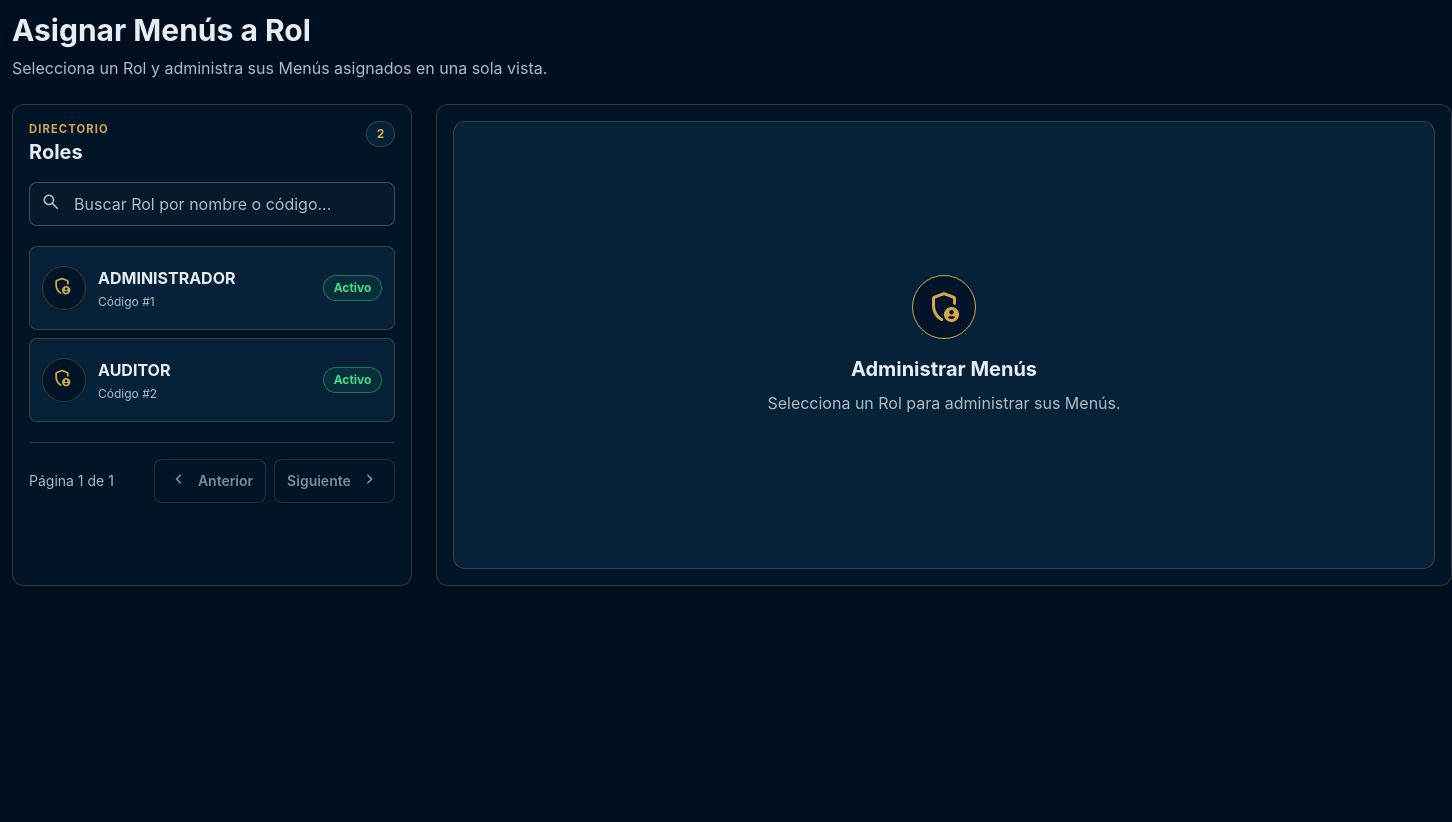
AsignarMenusListComponent › filters available Menús by code and uses the visual icon fallback
This screenshot has width=1452, height=822.
Click the button "ADMINISTRADOR Código #1 Activo" at (212, 288), box x1=29 y1=246 x2=395 y2=330
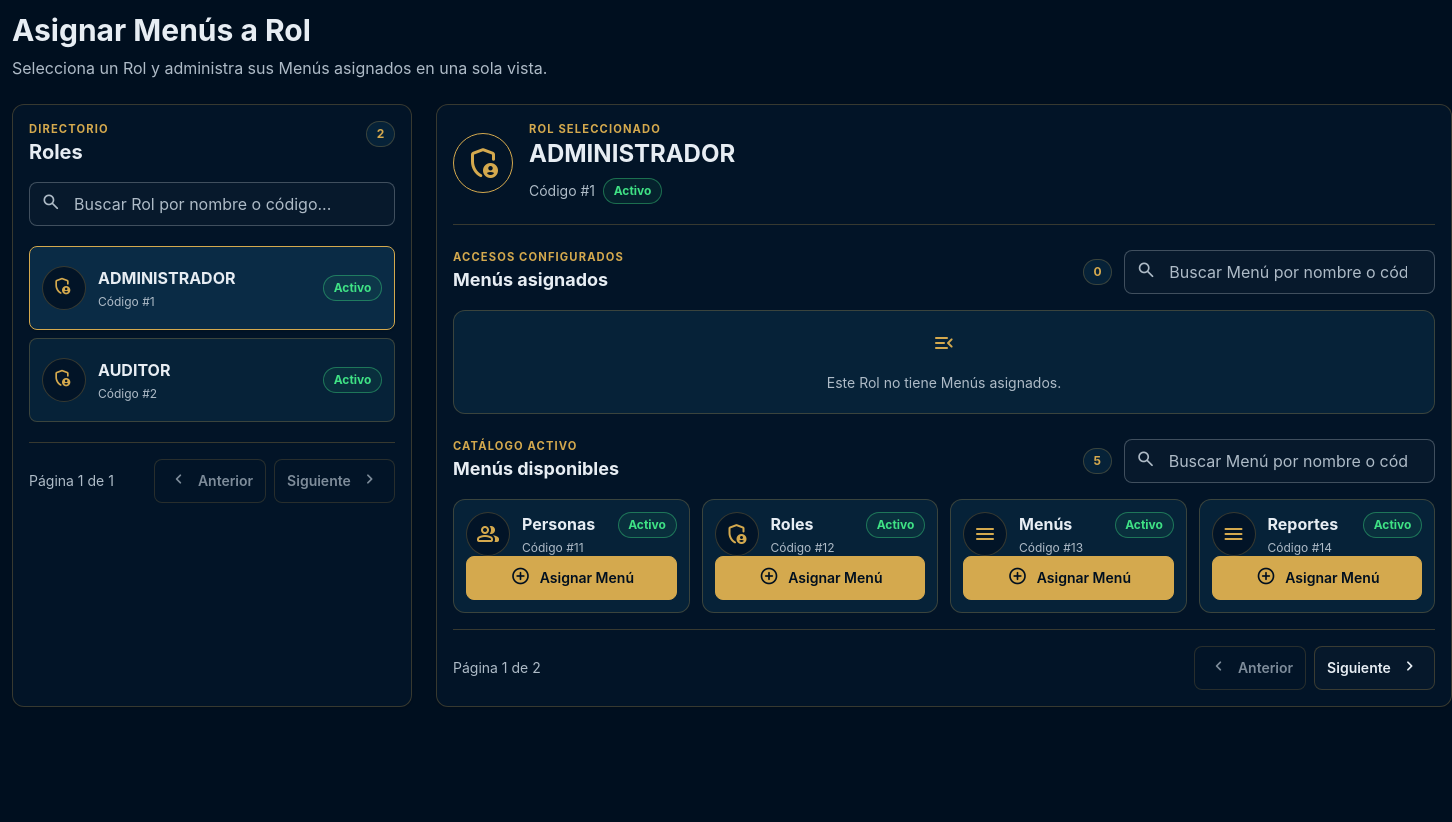
Type "14" into the search field with id "available-menu-search" at (1279, 461), box x1=1124 y1=439 x2=1435 y2=483
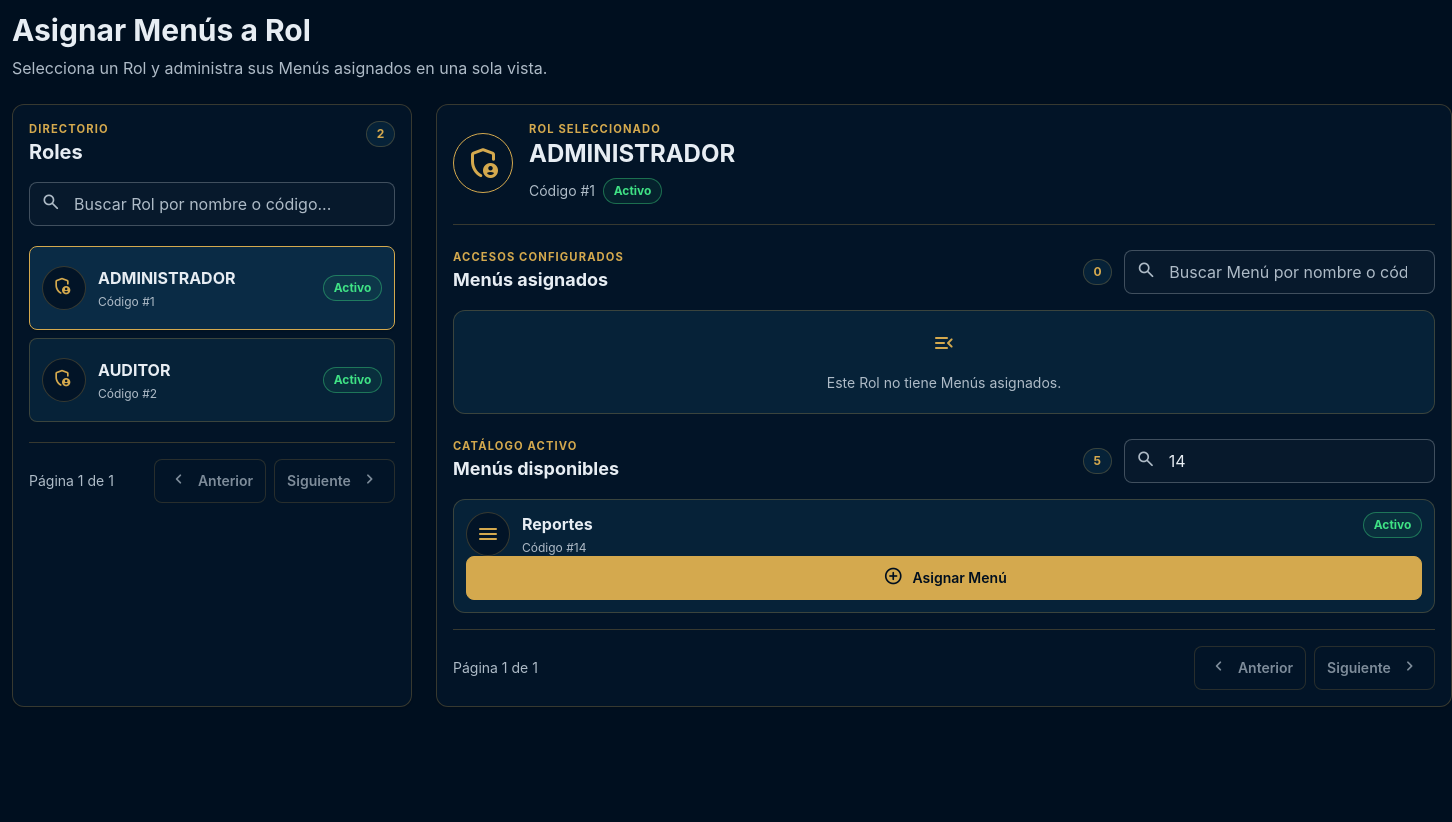
Check: the element that starts with "Catálogo activo" shows "Reportes", box x1=522 y1=514 x2=593 y2=534
Check: the number of elements with class "menu-card" is 1, box x1=453 y1=499 x2=1435 y2=613
